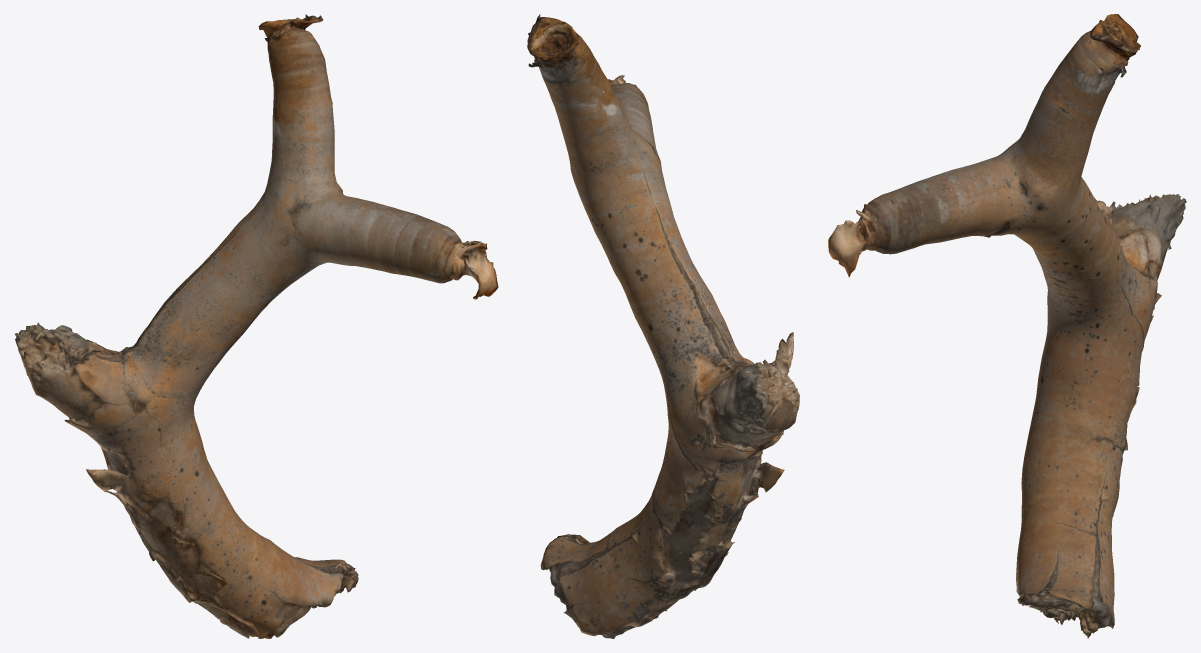
Rendered from dead_quiver_branch_01.gltf.
3 renders of one model, left to right at view 1: azimuth 30°, elevation 25°; view 2: azimuth 150°, elevation 25°; view 3: azimuth 270°, elevation 25°, orthographic. The views are drawn at different scales.
Visible parts, largest first — view 1: dead_quiver_branch_01; view 2: dead_quiver_branch_01; view 3: dead_quiver_branch_01.
Boxes of the visible parts, x1,y1,x2,y2 form: dead_quiver_branch_01: [15, 14, 498, 638]; dead_quiver_branch_01: [527, 14, 799, 638]; dead_quiver_branch_01: [828, 14, 1186, 638].
Bounding box in the file's own units: 0.2549 × 0.4387 × 0.227.
Materials: 1 (1 with a texture image).
